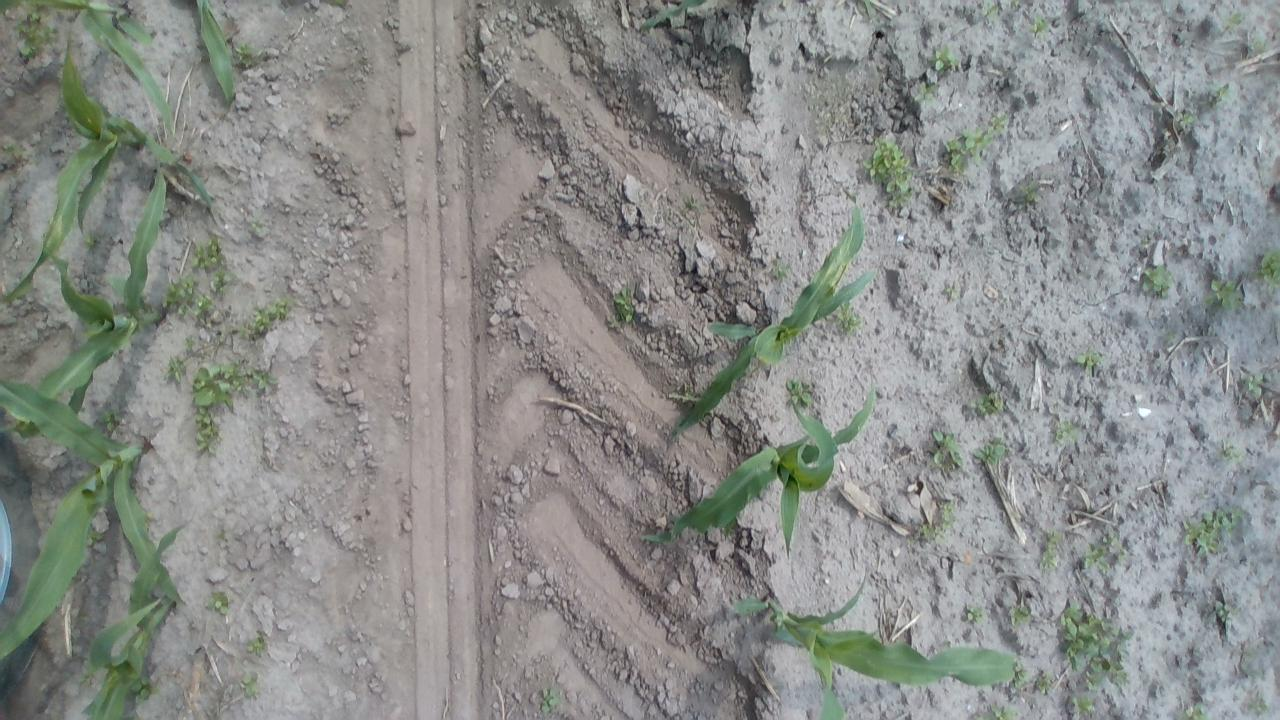Maize: (0, 32, 227, 307), (657, 195, 879, 445), (0, 371, 179, 666), (3, 148, 175, 450), (636, 378, 878, 559), (730, 575, 1026, 717), (0, 0, 176, 136), (77, 522, 193, 720), (175, 0, 237, 105), (634, 0, 712, 37)
Weeds: (1062, 599, 1136, 693), (186, 358, 274, 413), (942, 114, 1008, 176), (860, 134, 913, 208), (1180, 503, 1247, 560), (242, 297, 296, 342), (11, 7, 55, 62), (161, 276, 208, 318), (1080, 532, 1128, 573), (913, 502, 958, 542), (926, 425, 964, 470), (192, 408, 224, 456), (174, 282, 214, 320), (1204, 276, 1244, 312), (190, 236, 227, 274), (782, 374, 819, 411), (1139, 264, 1176, 298), (833, 300, 864, 338), (1040, 527, 1066, 572), (973, 436, 1009, 468), (612, 284, 638, 328), (972, 388, 1005, 421), (1239, 366, 1268, 402), (1252, 248, 1276, 287), (972, 701, 1024, 719), (1066, 692, 1102, 717), (536, 684, 564, 716), (1050, 416, 1078, 446), (163, 353, 190, 384), (129, 674, 157, 703), (1015, 179, 1041, 210), (932, 46, 960, 74), (913, 79, 940, 108), (204, 590, 233, 616), (232, 40, 258, 68), (234, 672, 260, 700), (1075, 348, 1102, 374), (1242, 692, 1270, 716), (1207, 82, 1232, 108), (1008, 602, 1032, 628), (1212, 598, 1236, 624), (770, 256, 793, 282), (1026, 14, 1052, 37), (247, 632, 269, 659), (1, 144, 32, 163), (1177, 701, 1211, 718), (99, 408, 122, 433), (1172, 110, 1198, 132), (1011, 658, 1030, 688), (667, 387, 699, 404), (684, 193, 702, 223), (1218, 11, 1246, 30), (964, 602, 986, 626), (83, 524, 105, 548), (1219, 441, 1242, 463), (80, 231, 102, 254), (980, 1, 1003, 22), (1036, 672, 1056, 696), (208, 272, 228, 296), (249, 216, 268, 240), (212, 524, 231, 548), (182, 336, 207, 354), (1246, 34, 1268, 54), (74, 666, 94, 686), (942, 282, 962, 300), (72, 608, 88, 621), (162, 196, 173, 210)
